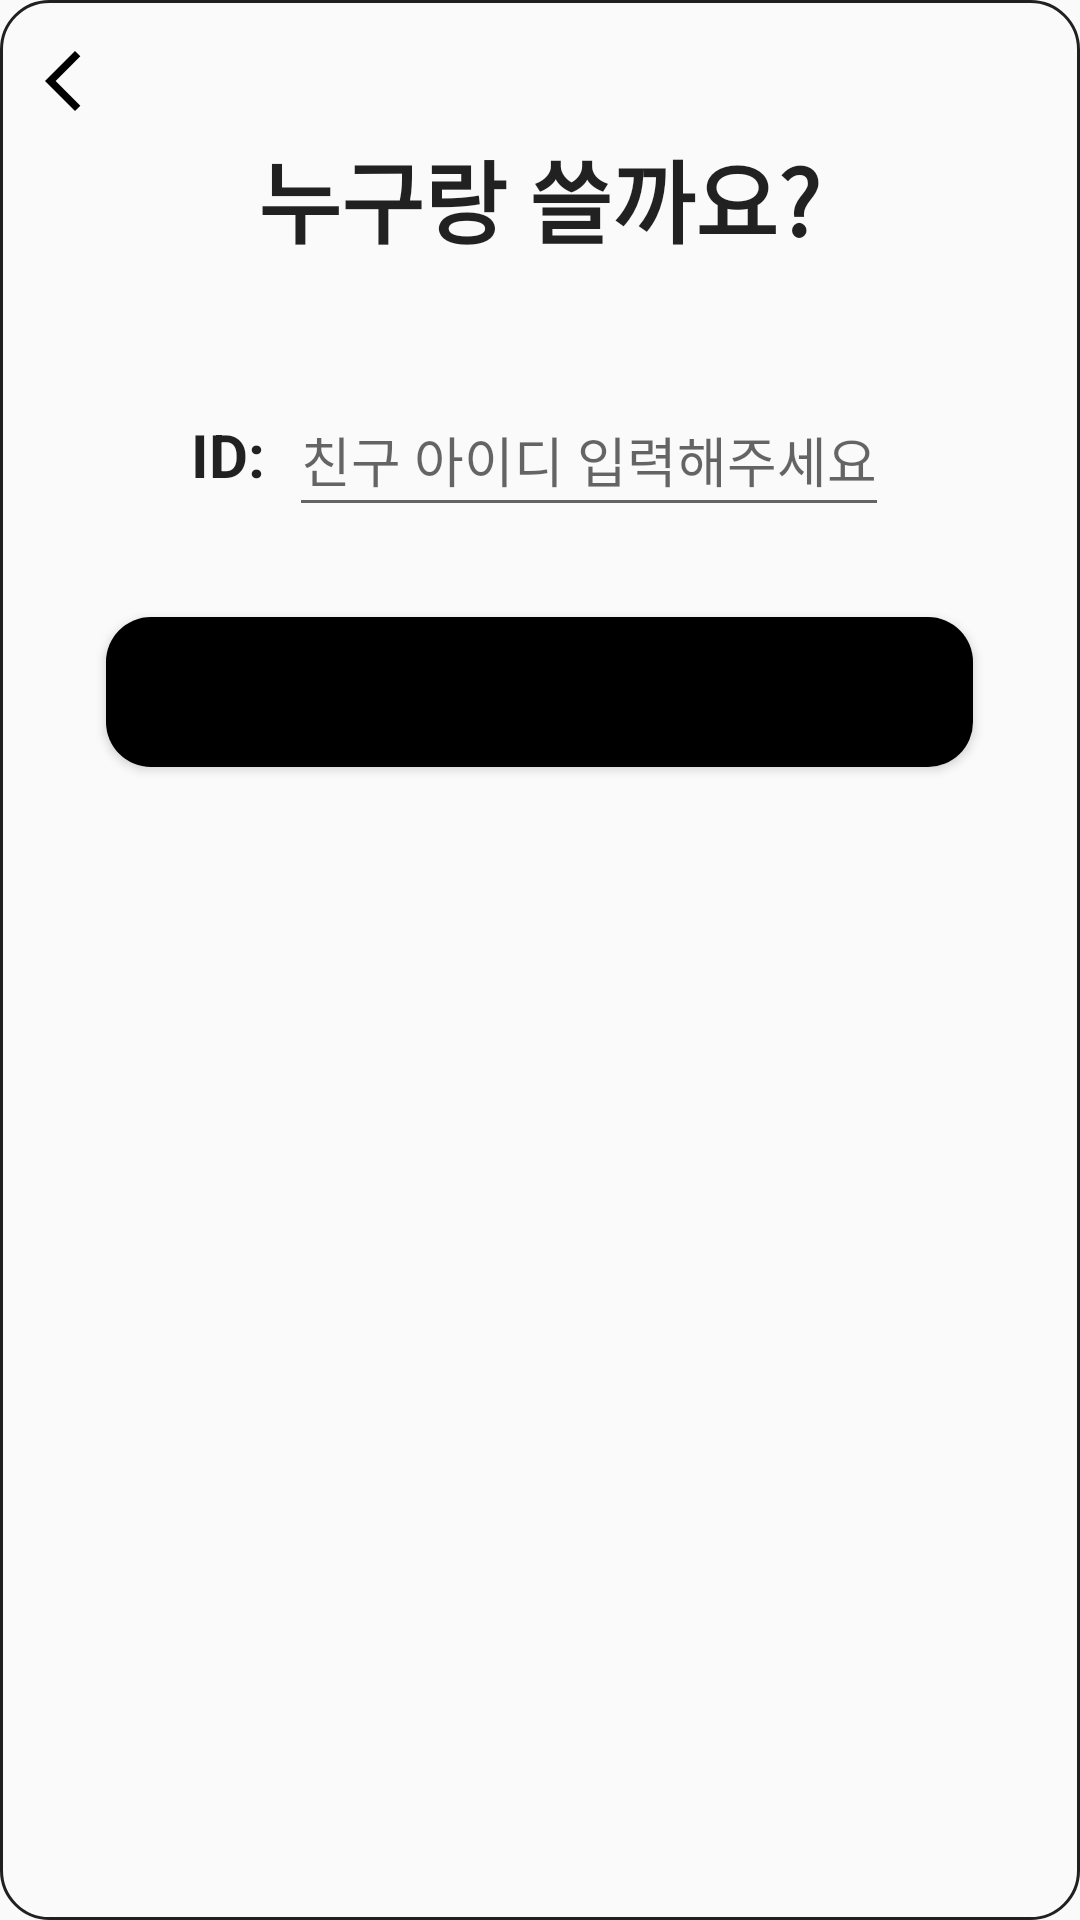

Named icons in this screenshot (1080w x 1920h) and their bounding boxes, (x1, y1, x2, y2):
뒤로가기: (45, 51, 80, 111)
